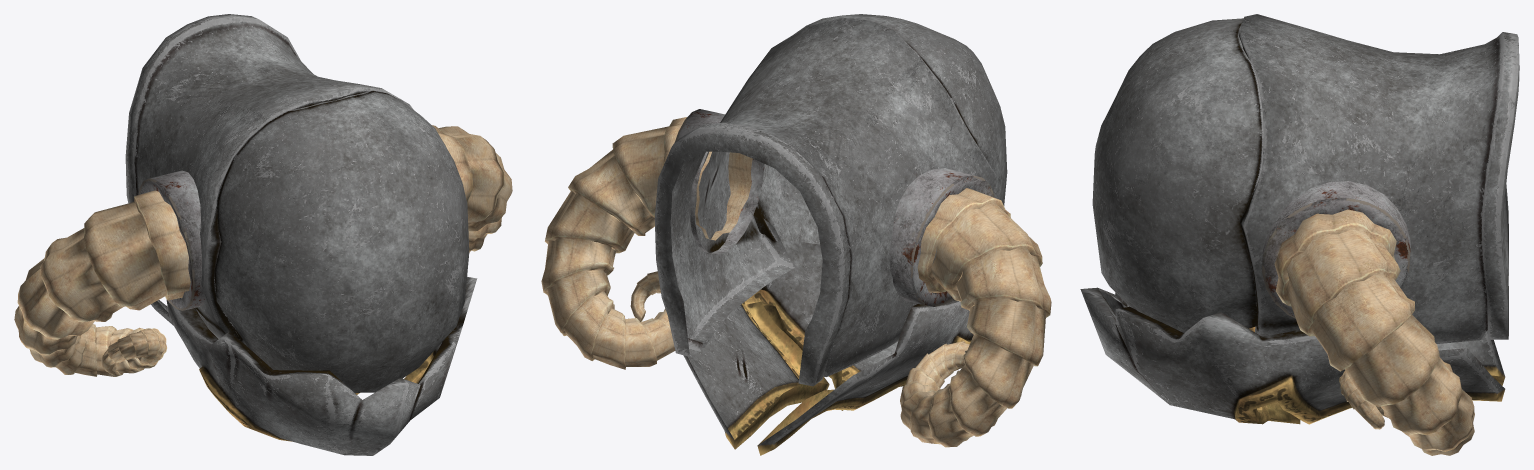
Rendered from Helm.gltf.
The picture shows the model from 3 angles, left to right: view 1: azimuth 30°, elevation 25°; view 2: azimuth 150°, elevation 25°; view 3: azimuth 270°, elevation 25°; orthographic projection. The views are drawn at different scales.
Visible parts, largest first — view 1: Helm; view 2: Helm; view 3: Helm.
Part boxes in pixels (bbox=[...]): Helm: bbox=[14, 14, 512, 455]; Helm: bbox=[541, 14, 1051, 455]; Helm: bbox=[1080, 14, 1519, 455].
Size of the model in its own units: 15.28 by 11.1 by 11.16.
2 materials, 2 textured.
